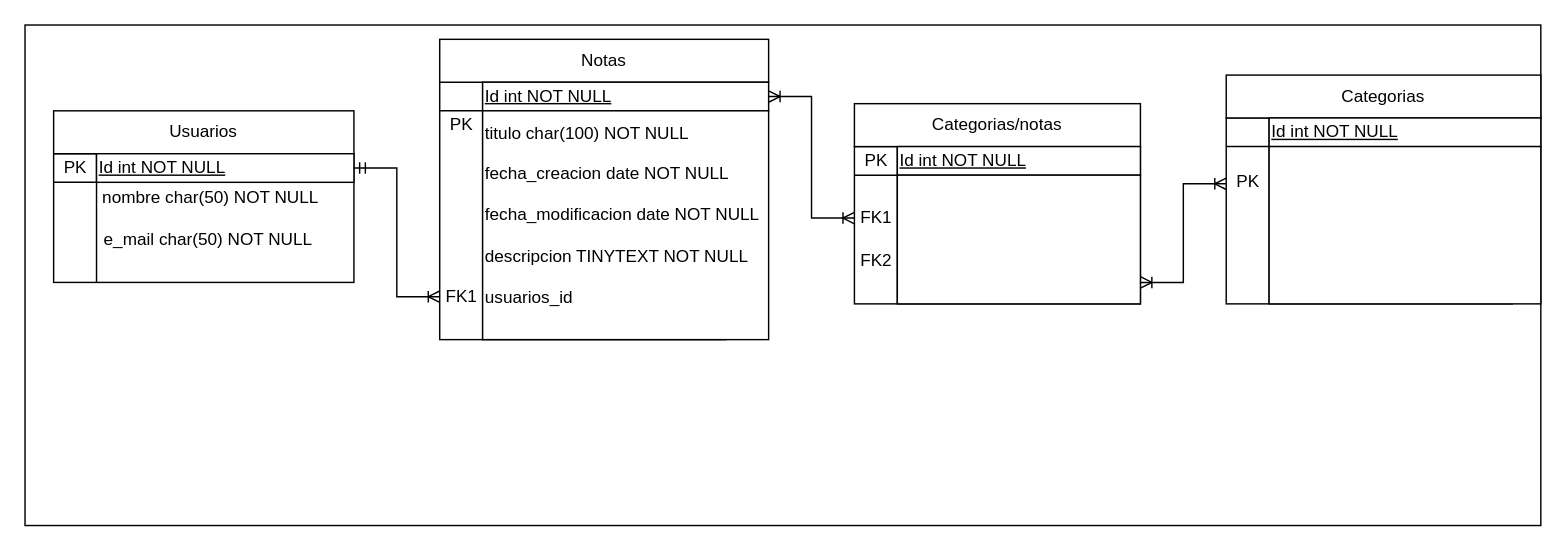
The diagram is 1566 pixels wide and 551 high, and some of its shapes have lost their labels. Here are the shapes that lost their labels. From the top down, the centre of each, then its label:
[1018,239]: notas_id categorias_id
[1404,224]: description TINYTEXT NOT NULL
